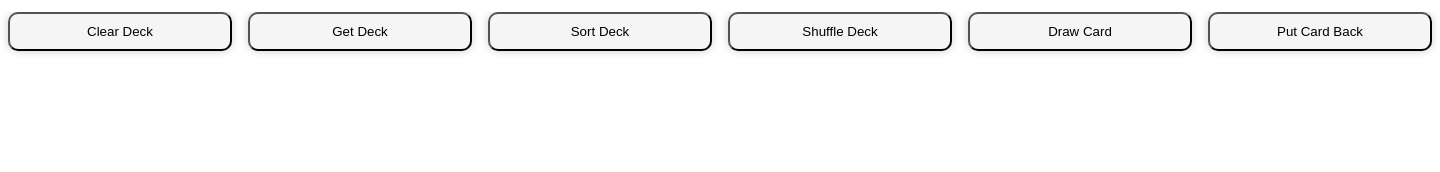
Test: will correctly allow user to remove and add cards
The width and height of the screenshot is (1440, 172).
Expected: the button "Shuffle Deck" is enabled, top-left (728, 12), bottom-right (952, 51)
Click the button "Draw Card" at (1080,32), box top-left (968, 12), bottom-right (1192, 51)
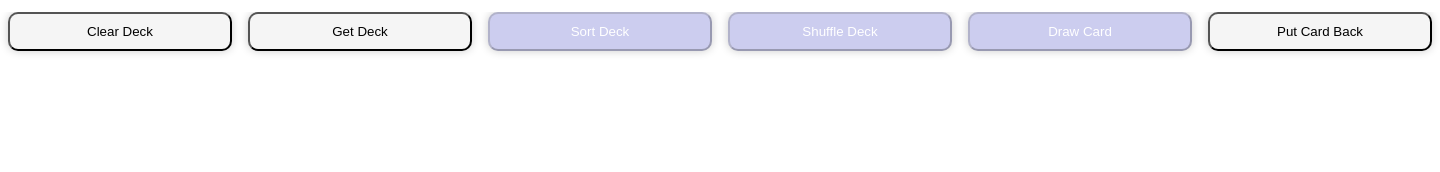
Expected: the button "Shuffle Deck" is disabled, top-left (728, 12), bottom-right (952, 51)
Click the button "Put Card Back" at (1320,32), box top-left (1208, 12), bottom-right (1432, 51)
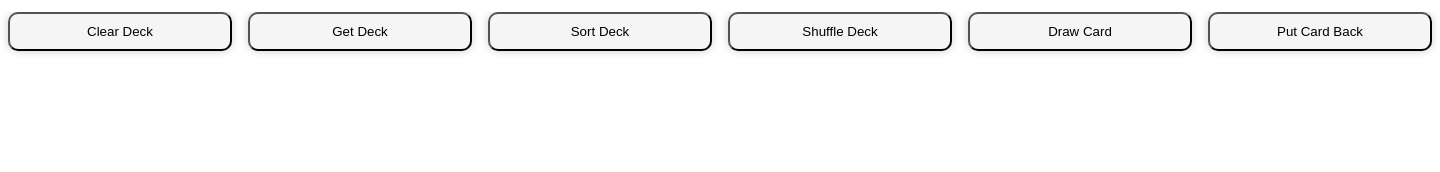
Expected: the button "Shuffle Deck" is enabled, top-left (728, 12), bottom-right (952, 51)
